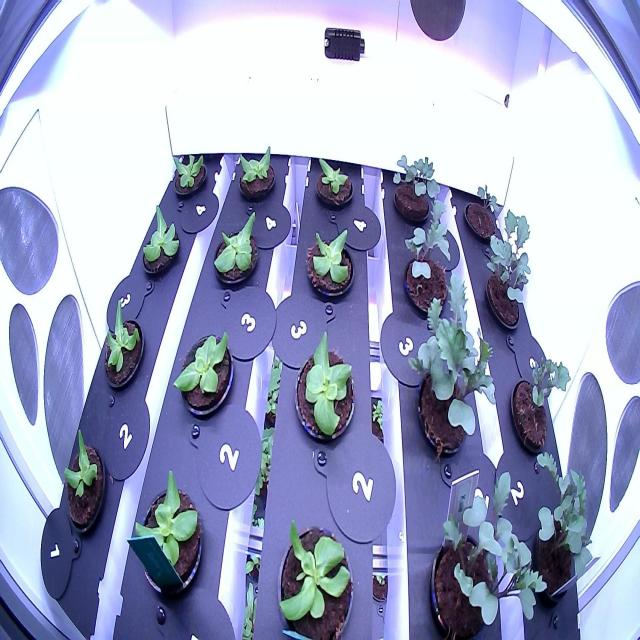young: (126, 459, 206, 607), (270, 510, 358, 638), (290, 324, 363, 452), (170, 316, 238, 426), (57, 418, 111, 542), (95, 292, 152, 394), (204, 209, 268, 290), (301, 218, 361, 304), (134, 200, 188, 283), (308, 142, 363, 220), (233, 136, 280, 207), (167, 142, 216, 204)
